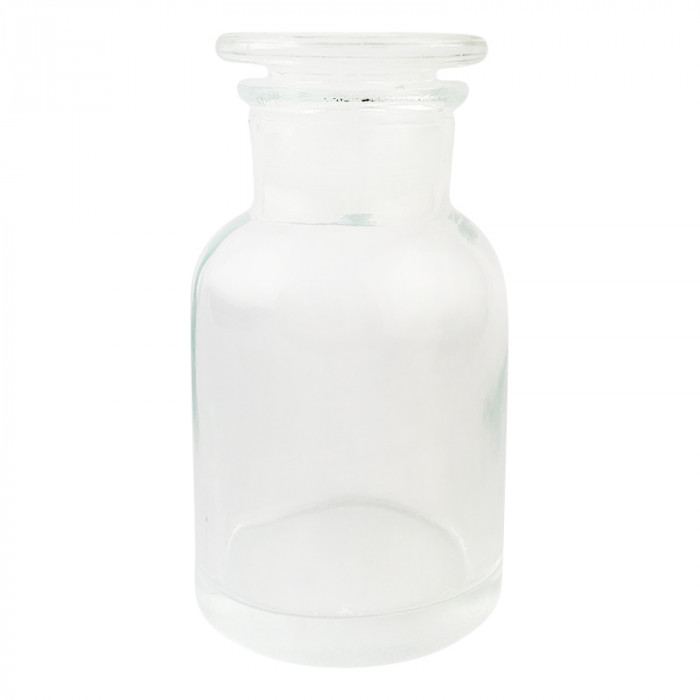glass_bottle: (174, 17, 538, 692)
